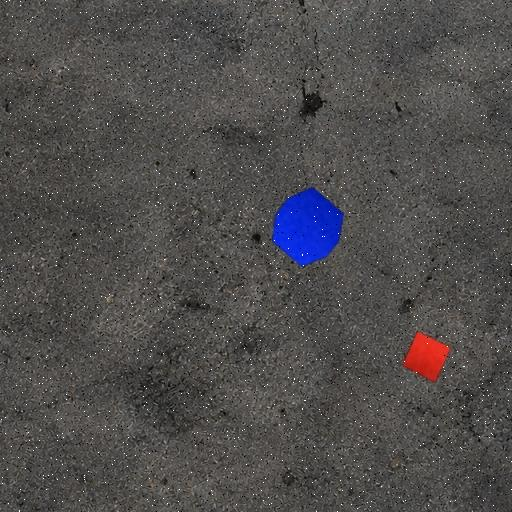RED_SQUARE: (402, 331, 452, 384)
